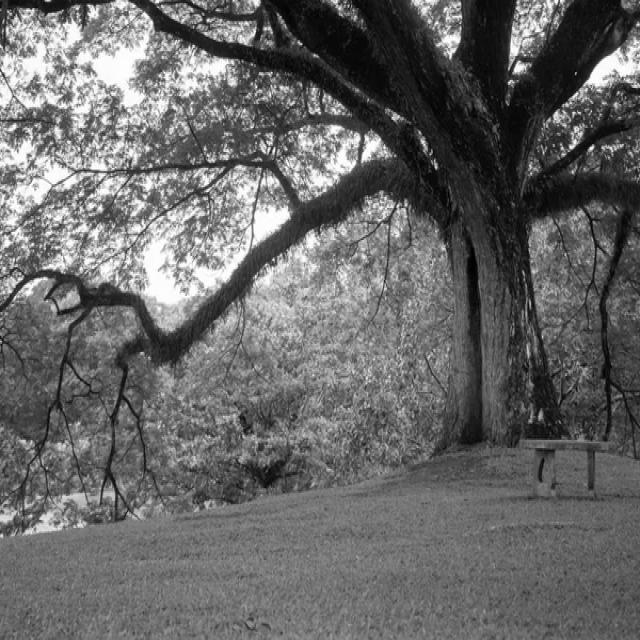Tree: (133, 0, 640, 449)
